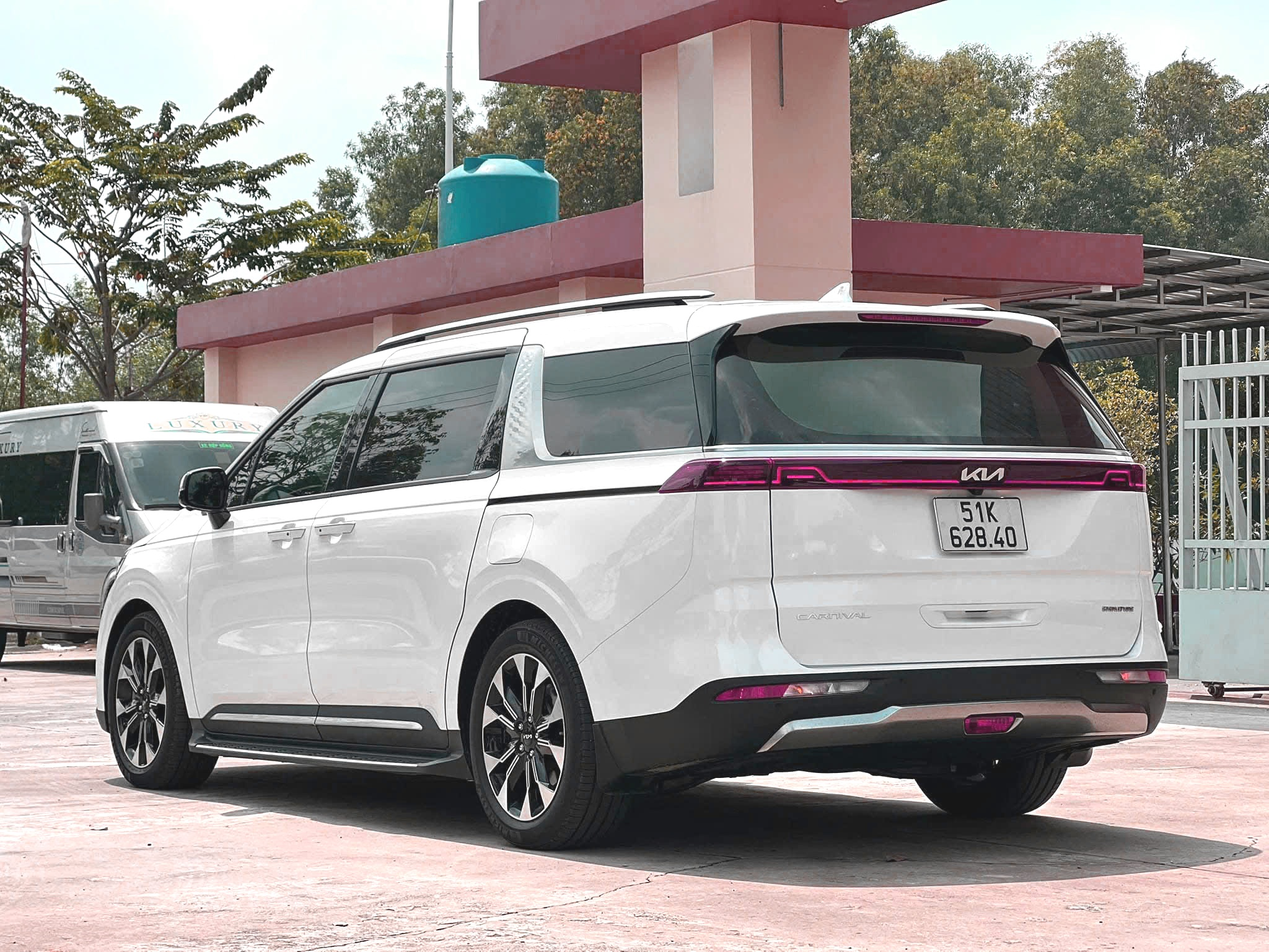Bien-so: (875, 534, 988, 612)
